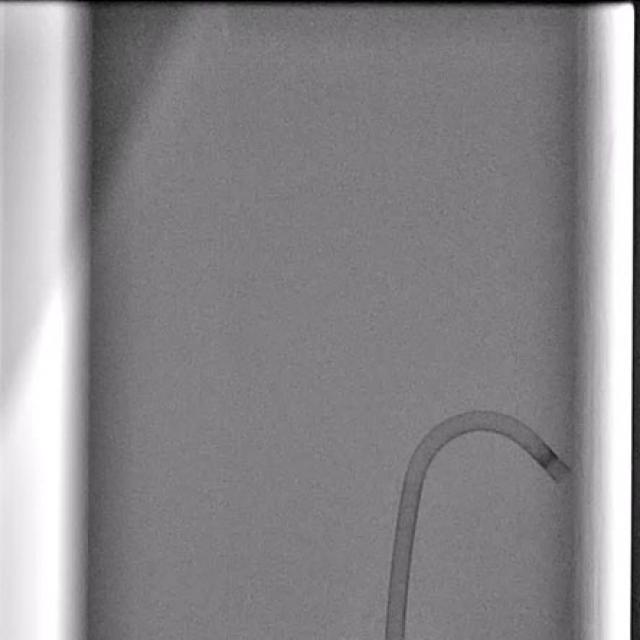bend: (403, 478, 422, 489)
entry: (384, 634, 405, 640)
marker: (537, 450, 558, 468)
tip: (556, 469, 573, 484)
